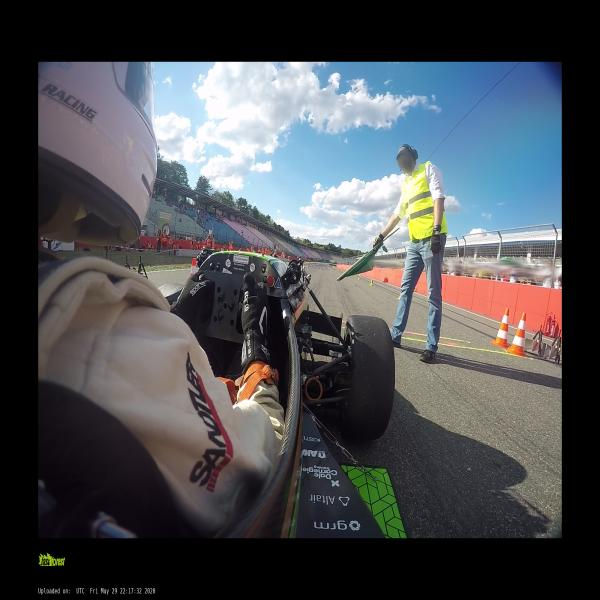large_orange_cone: (507, 312, 528, 357), (491, 307, 510, 348), (191, 258, 196, 275)
yellow_cone: (398, 291, 401, 299), (370, 278, 373, 285), (358, 275, 360, 279), (341, 269, 343, 271)
